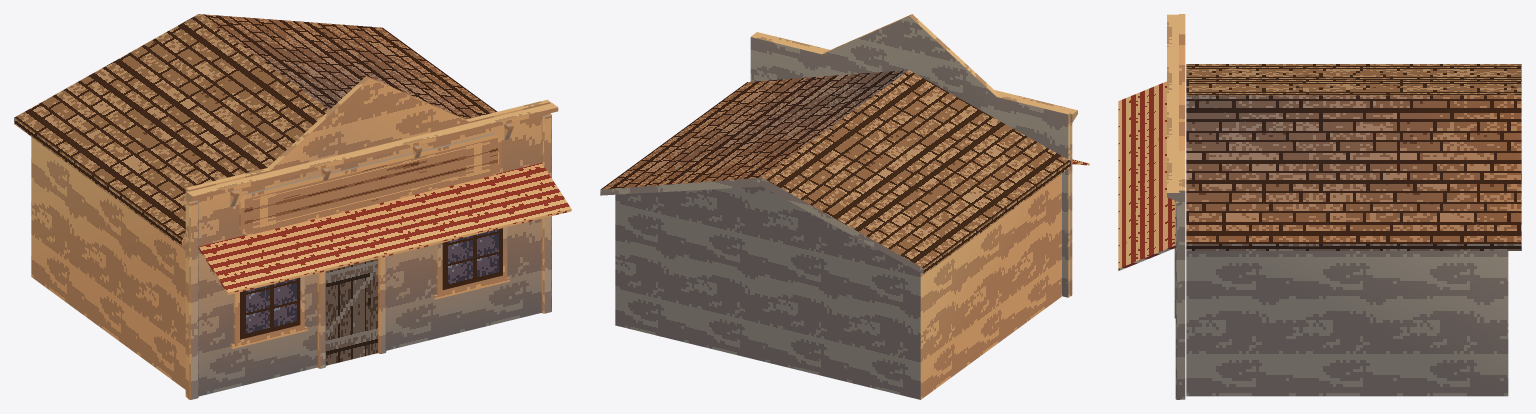
Rendered from wtown.facade__e_pediment.glb.
The picture shows the model from 3 angles, left to right: view 1: azimuth 30°, elevation 25°; view 2: azimuth 150°, elevation 25°; view 3: azimuth 270°, elevation 25°; orthographic projection. The views are drawn at different scales.
Visible parts, largest first — view 1: kit_roof, kit_front, kit_body, kit_card_panes, kit_awning, kit_trim, kit_windows; view 2: kit_body, kit_roof, kit_front, kit_trim; view 3: kit_roof, kit_body, kit_awning, kit_trim, kit_front.
Part boxes in pixels (left/top/right/bottom): kit_roof: left=14, top=14, right=497, bottom=246; kit_front: left=185, top=76, right=550, bottom=397; kit_body: left=31, top=137, right=185, bottom=389; kit_card_panes: left=240, top=137, right=502, bottom=365; kit_awning: left=198, top=163, right=571, bottom=294; kit_trim: left=186, top=102, right=558, bottom=399; kit_windows: left=230, top=227, right=509, bottom=348; kit_body: left=615, top=173, right=1061, bottom=399; kit_roof: left=600, top=70, right=1070, bottom=274; kit_front: left=750, top=14, right=1071, bottom=297; kit_trim: left=752, top=32, right=1077, bottom=295; kit_roof: left=1186, top=64, right=1521, bottom=250; kit_body: left=1186, top=251, right=1508, bottom=396; kit_awning: left=1118, top=81, right=1175, bottom=270; kit_trim: left=1167, top=14, right=1179, bottom=399; kit_front: left=1179, top=14, right=1185, bottom=399.
Bounding box in the file's own units: 7.94 × 5.7 × 7.52.
6 materials, 6 textured.
